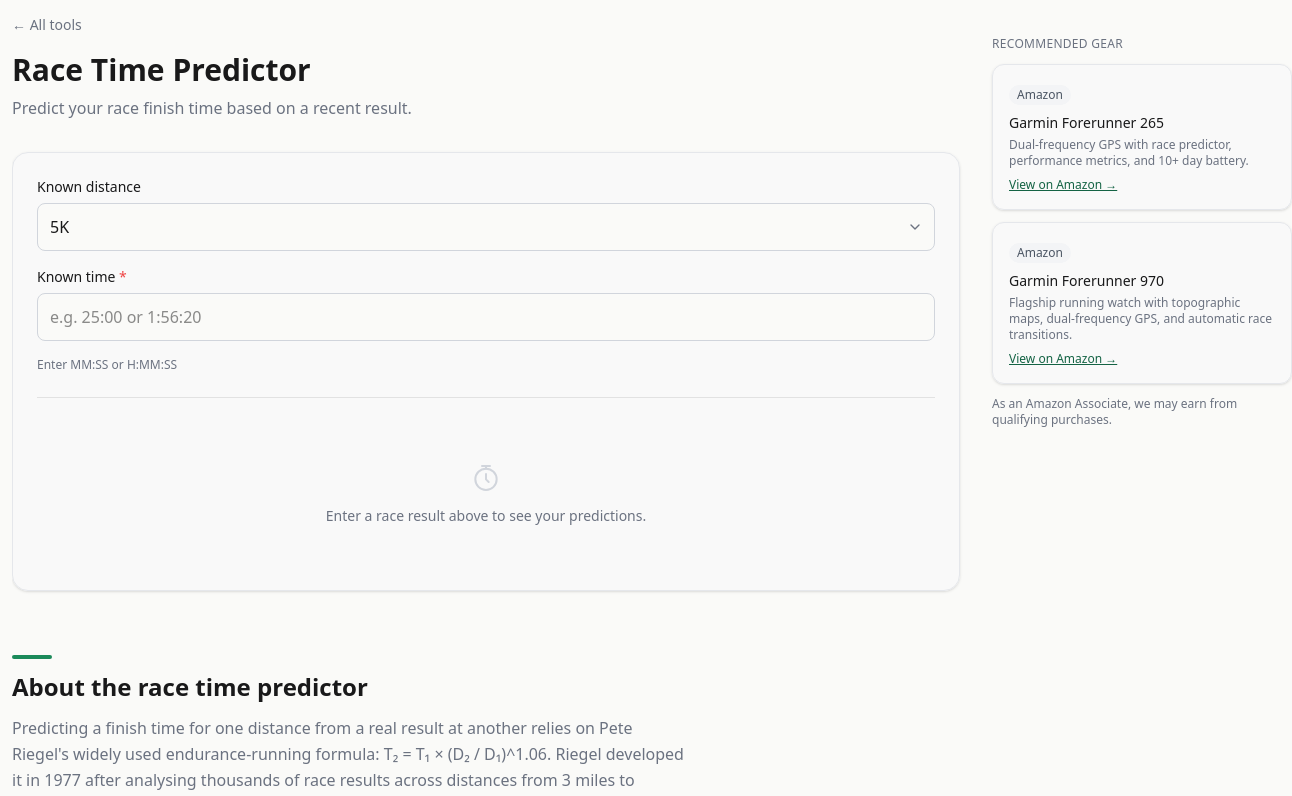
Test: RacePredictor page › hides table and returns to empty state when time is cleared
Type "25:00" into the field labelled "Known time *" at [486, 317], box [37,293,935,341]
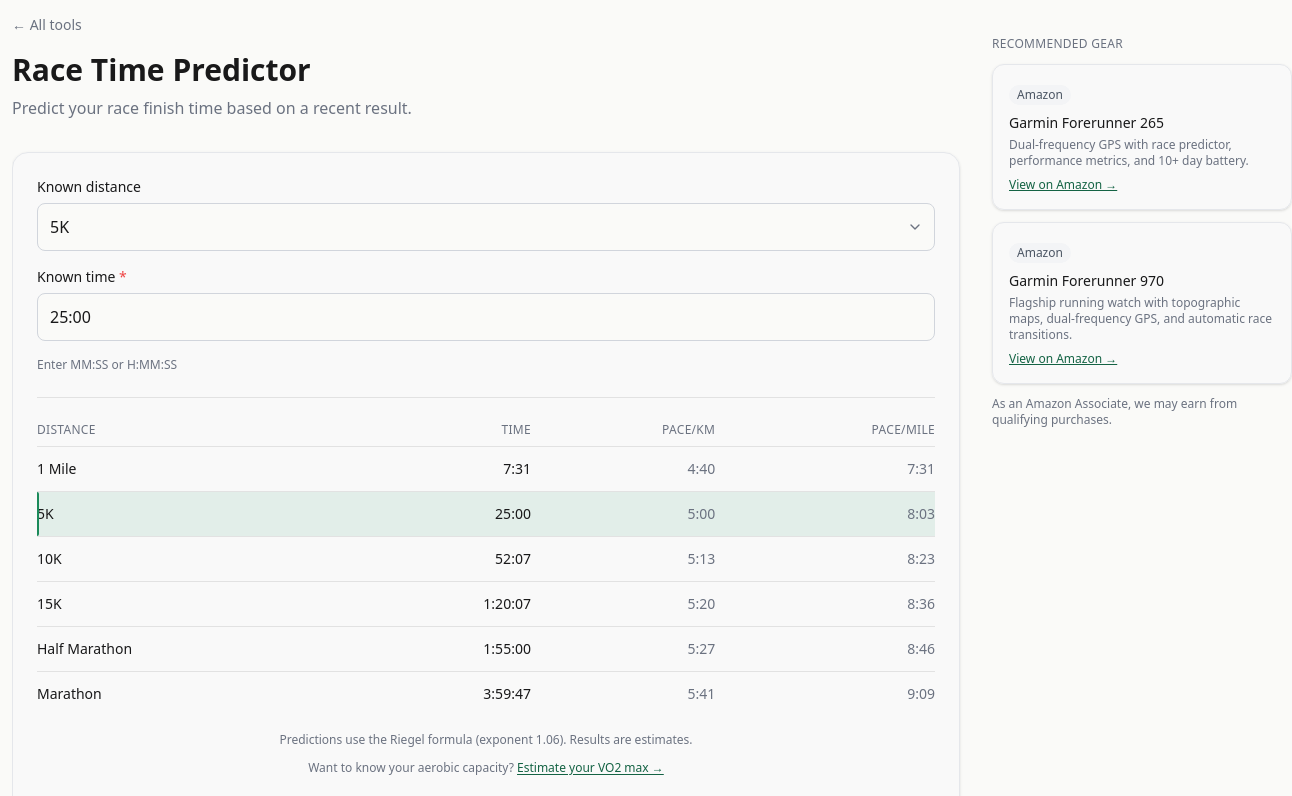
Clear the field labelled "Known time *" at [486, 317], box [37,293,935,341]
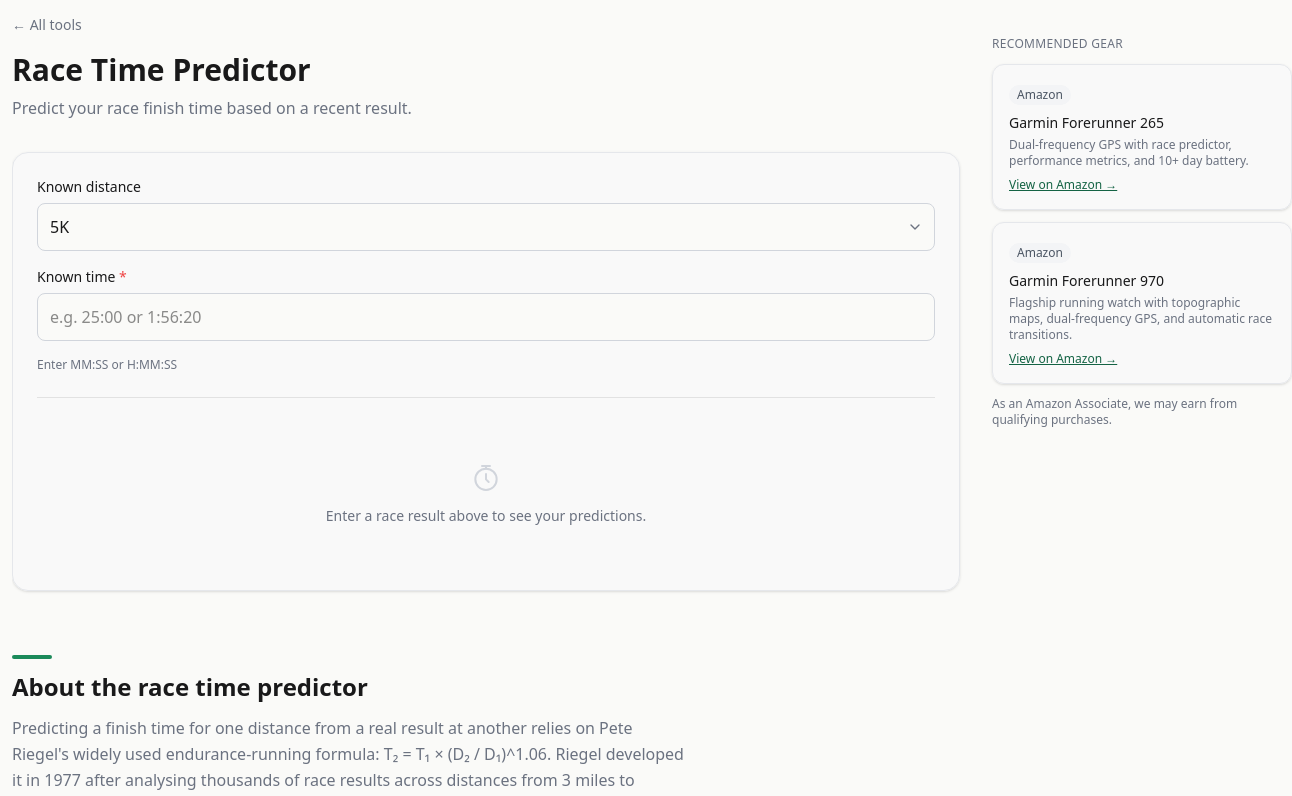
Result: the table is gone
Result: the text "Enter a race result above to see your predictions." is shown at [326,506,646,525]
